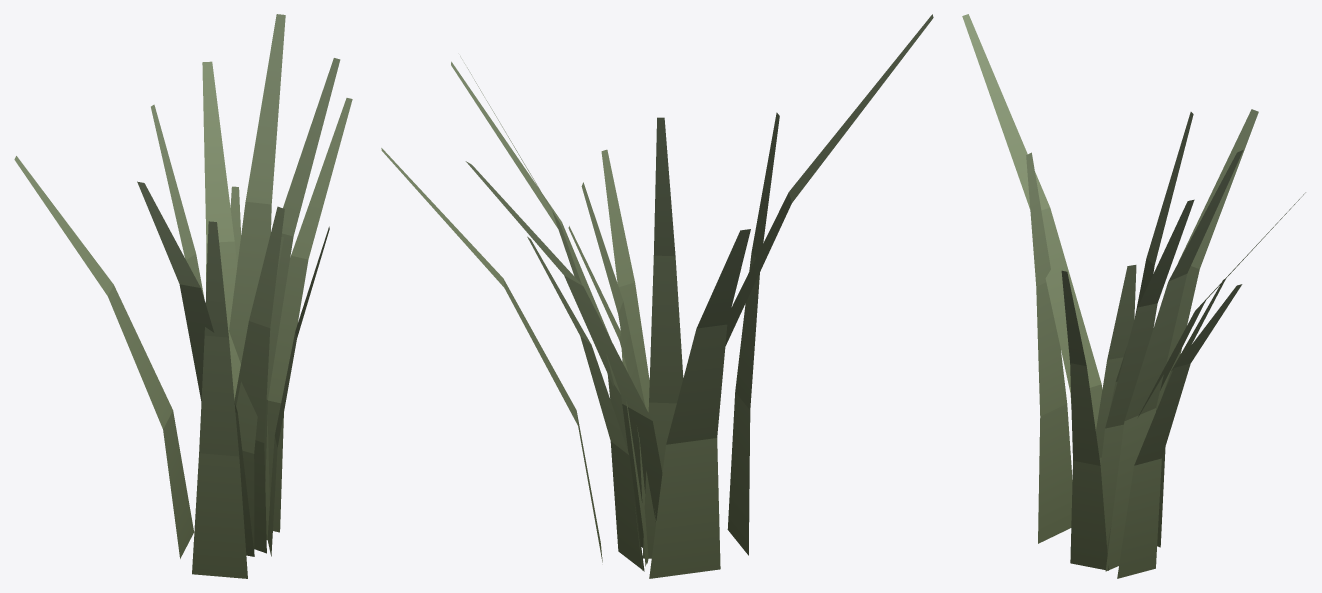
File: grass_clump.glb
The picture shows the model from 3 angles, left to right: view 1: azimuth 30°, elevation 25°; view 2: azimuth 150°, elevation 25°; view 3: azimuth 270°, elevation 25°; orthographic projection. The views are drawn at different scales.
Parts seen in each view (by area): view 1: grass_clump; view 2: grass_clump; view 3: grass_clump.
Part boxes in pixels (x1,y1,x2,y2): grass_clump: (14, 14, 352, 578); grass_clump: (381, 14, 933, 578); grass_clump: (962, 14, 1305, 578).
Bounding box in the file's own units: 0.6942 × 0.8698 × 0.5938.
